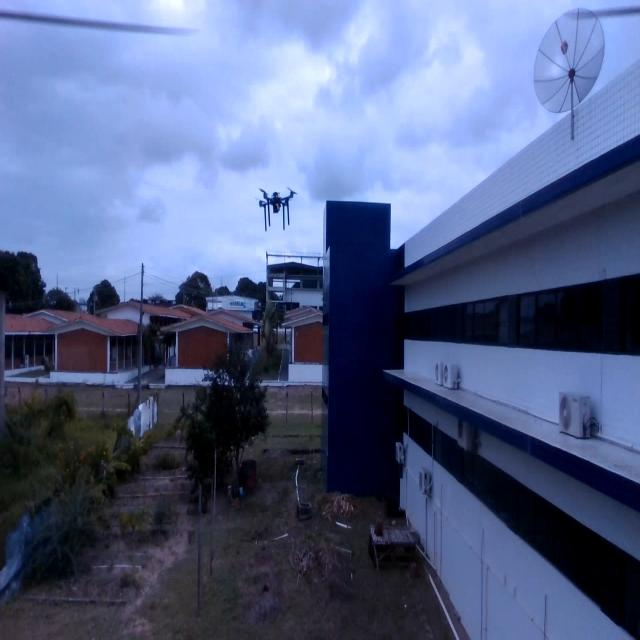-uav-: (248, 176, 301, 236)
